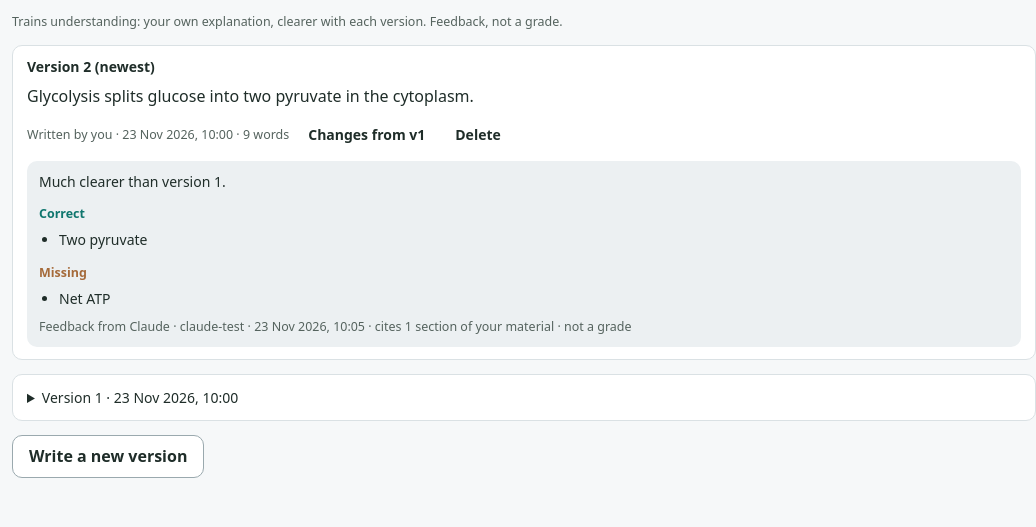
Test: Concept-to-Clarity panel › shows the newest version with its feedback, never a grade, and earlier versions folded
The width and height of the screenshot is (1036, 527).
Check: the heading "Version 2 (newest)" is shown, box 27,57 -> 155,76
Check: the text "Much clearer than version 1." is shown, box 39,172 -> 226,191
What coordinates should you click on to do the following:
click the button "Changes from v1"
I would click on:
 (367, 135)
Its box is 297,119 -> 436,151.
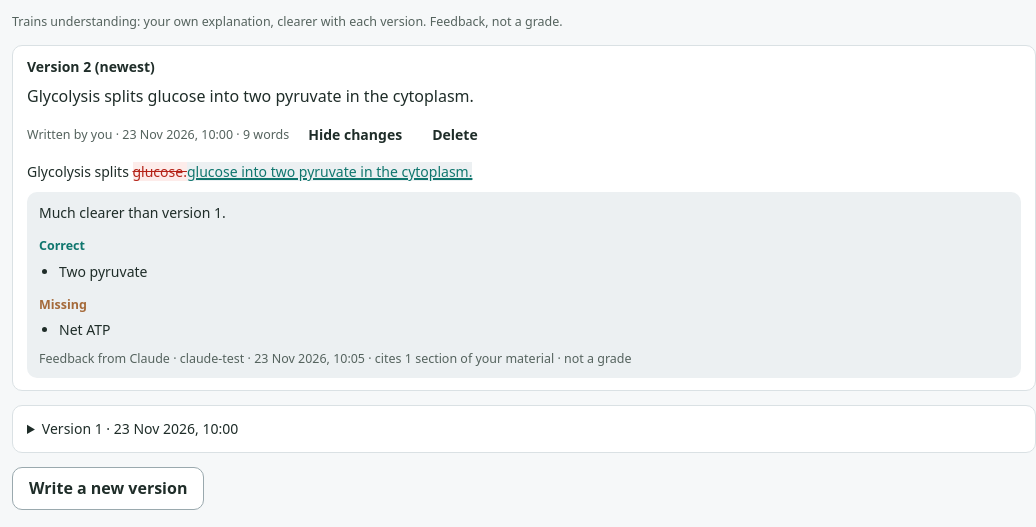
Check: the heading "Version 1 · 23 Nov 2026, 10:00" is shown, box 42,419 -> 238,438
Check: the text "glucose into two pyruvate in the cytoplasm." is shown, box 187,162 -> 472,181
